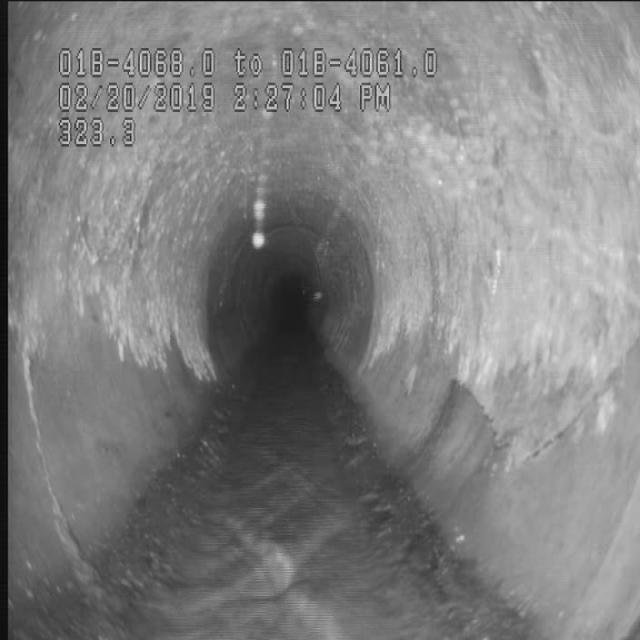Fracture: (410, 305, 620, 527)
